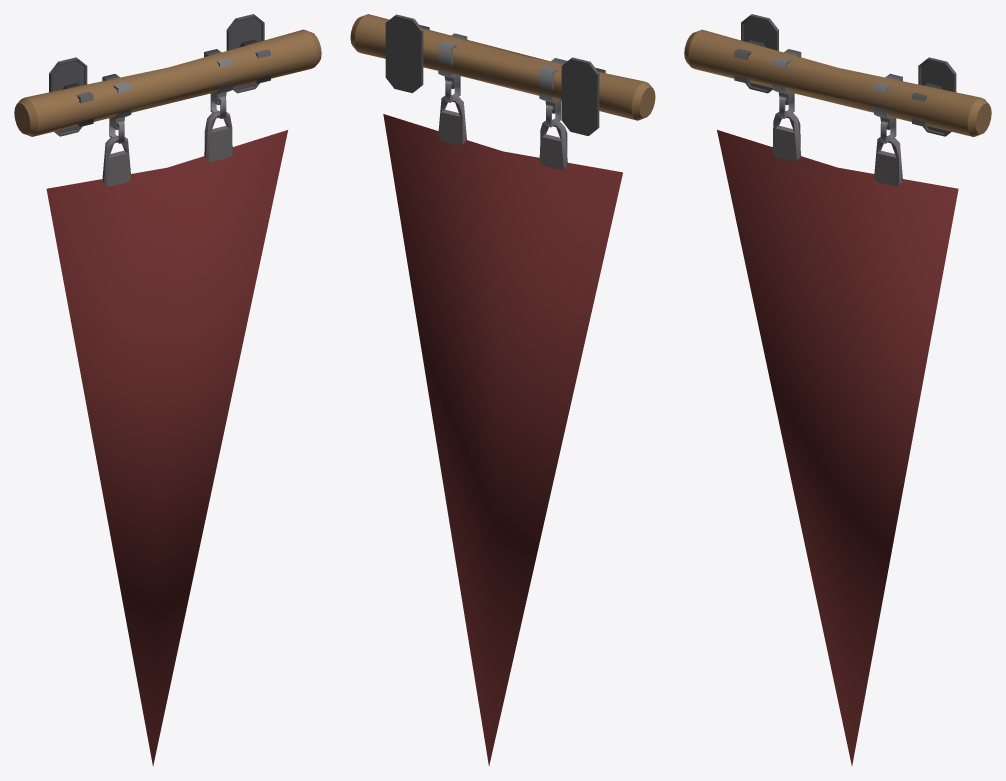
The model's file is red-banner.lod0.glb.
3 renders of one model, left to right at view 1: azimuth 30°, elevation 25°; view 2: azimuth 150°, elevation 25°; view 3: azimuth 330°, elevation 25°, orthographic.
Visible parts, largest first — view 1: Wooden holder_Wood_Mat_0; view 2: Wooden holder_Wood_Mat_0; view 3: Wooden holder_Wood_Mat_0.
Boxes of the visible parts, <box> form: Wooden holder_Wood_Mat_0: <box>14,14,321,766</box>; Wooden holder_Wood_Mat_0: <box>350,14,655,766</box>; Wooden holder_Wood_Mat_0: <box>684,14,991,765</box>.
Bounding box in the file's own units: 1.08 × 2.6 × 0.1584.
